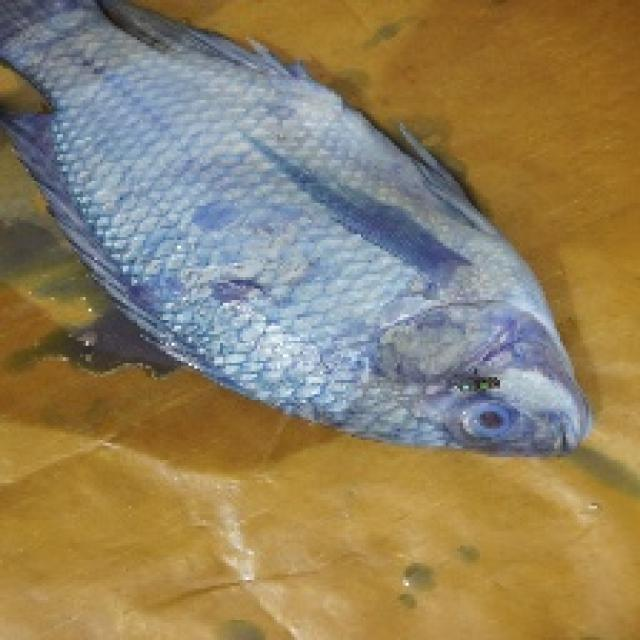Non-Fresh: (41, 35, 610, 472), (440, 369, 530, 463)
